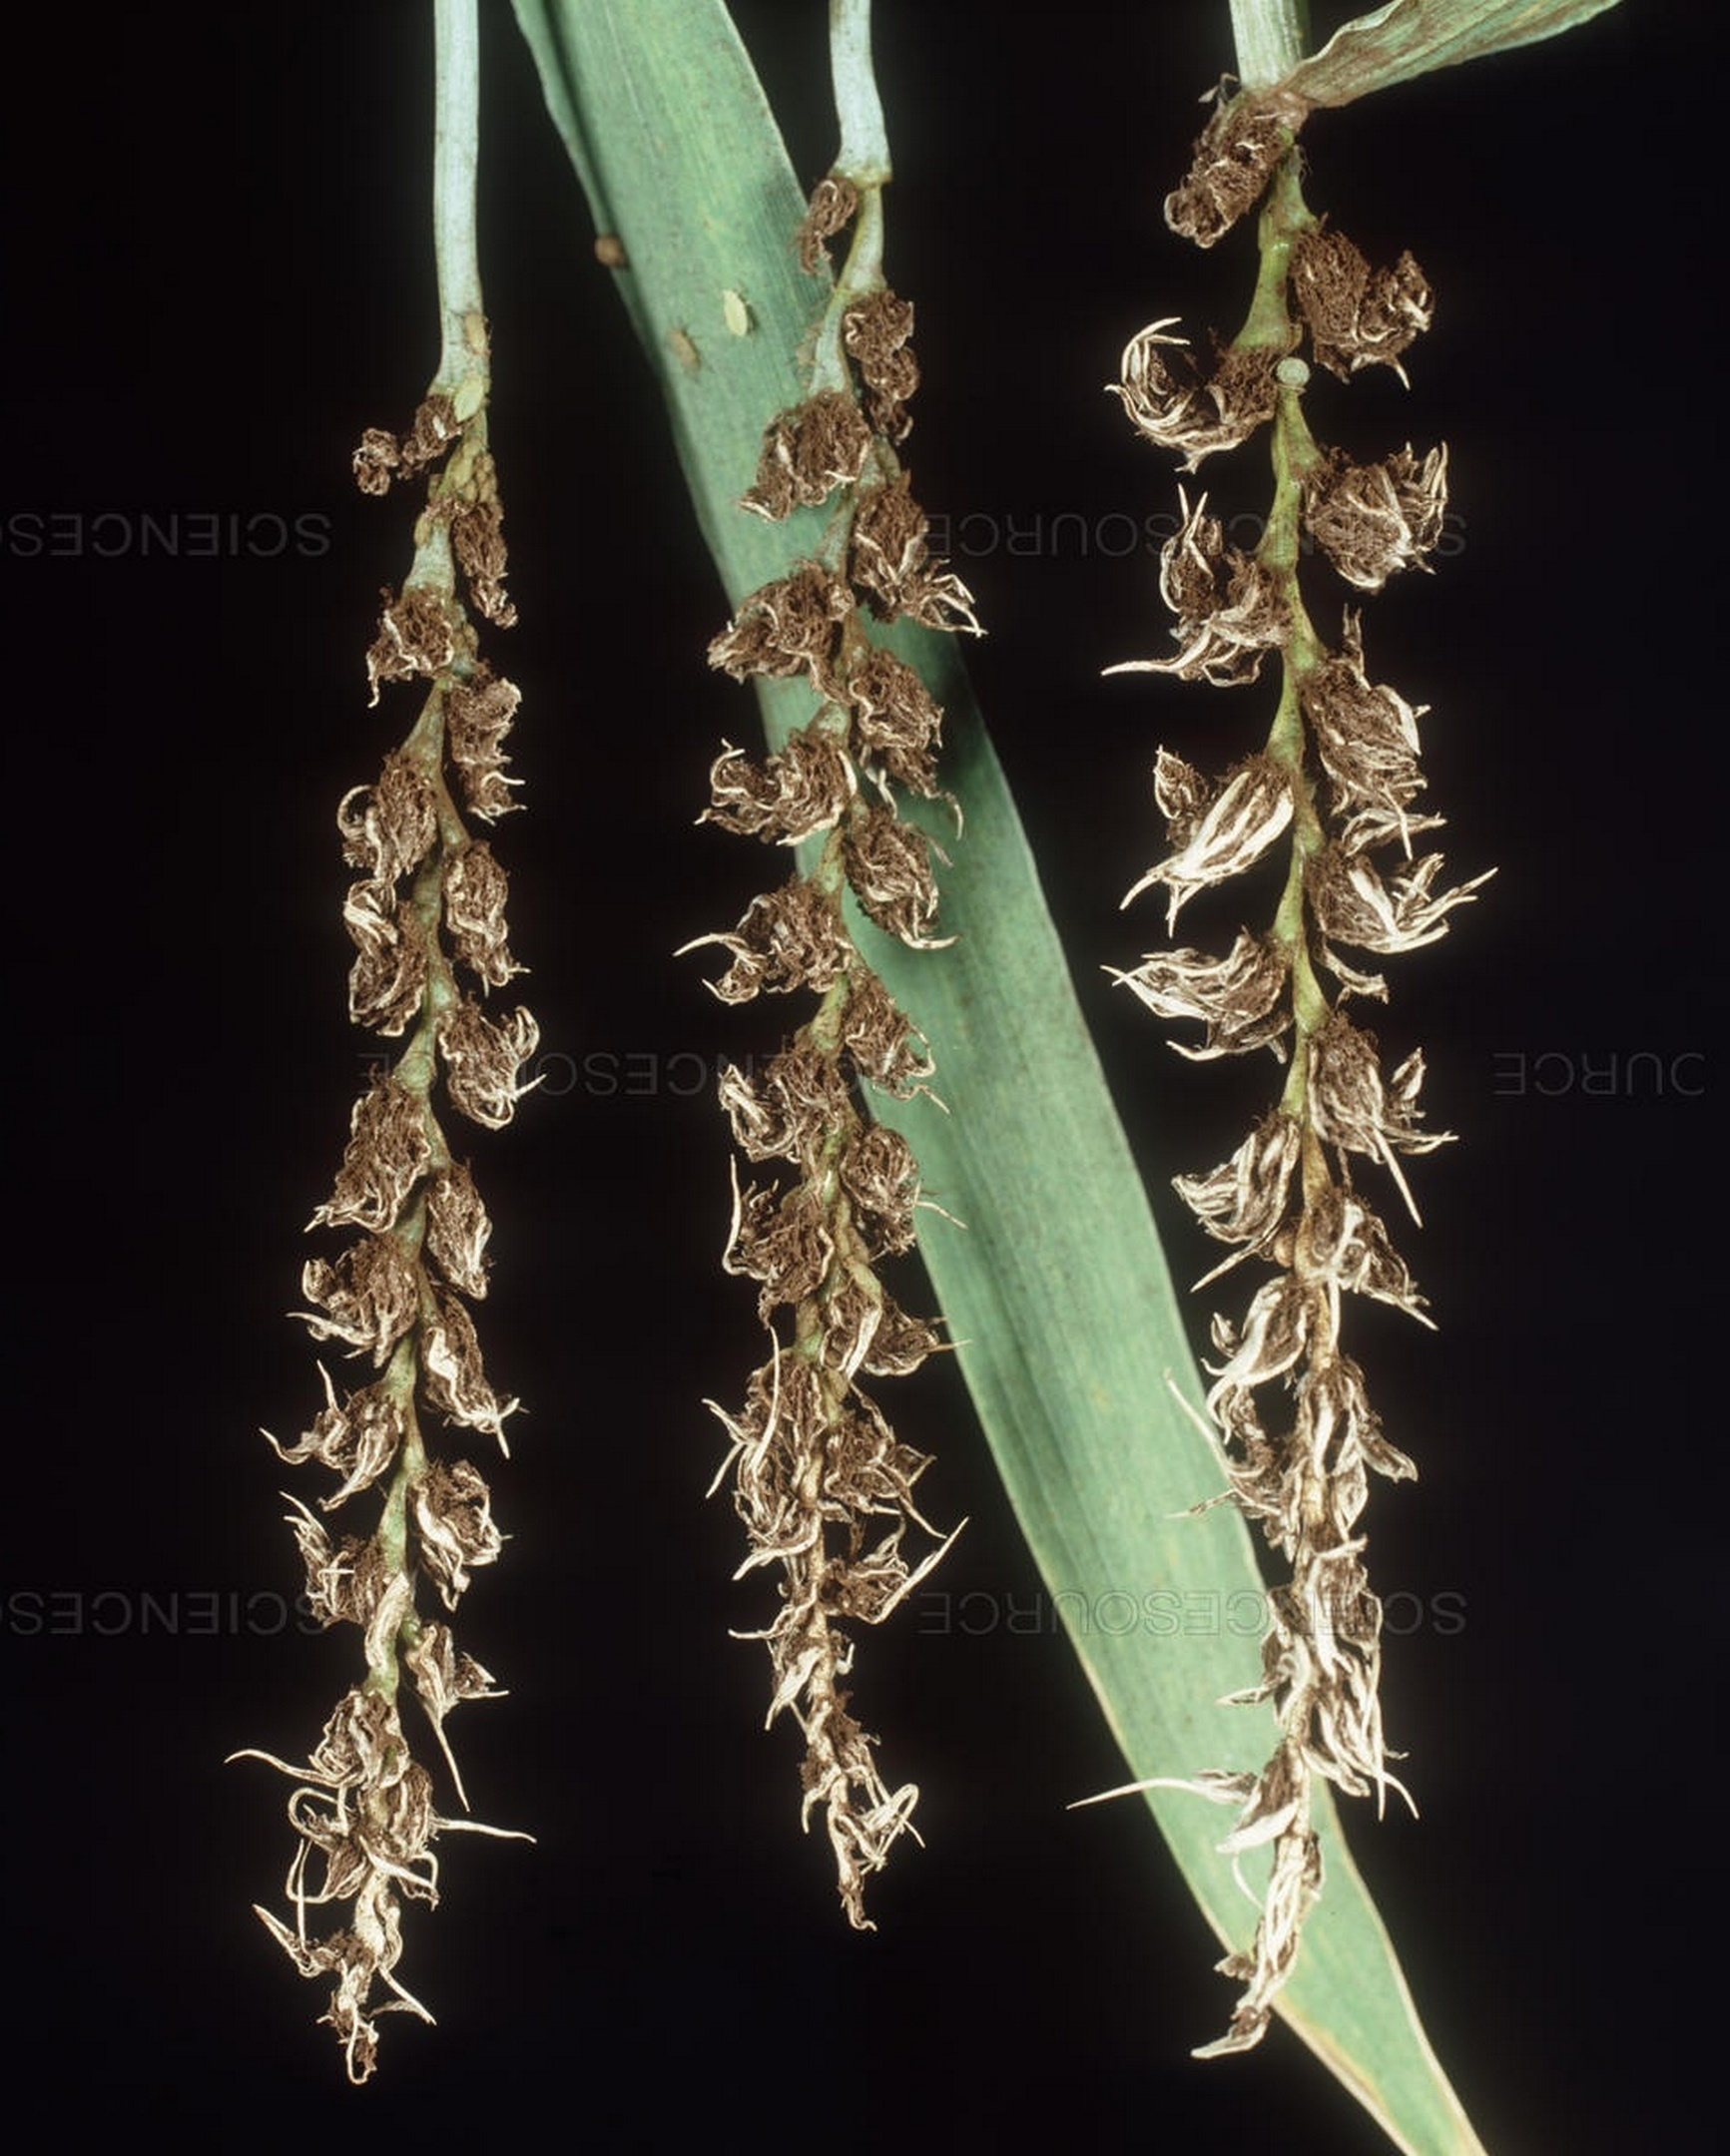Wheat Loose Smut: (1107, 136, 1571, 1914), (171, 328, 565, 2045), (636, 219, 1031, 1893)
